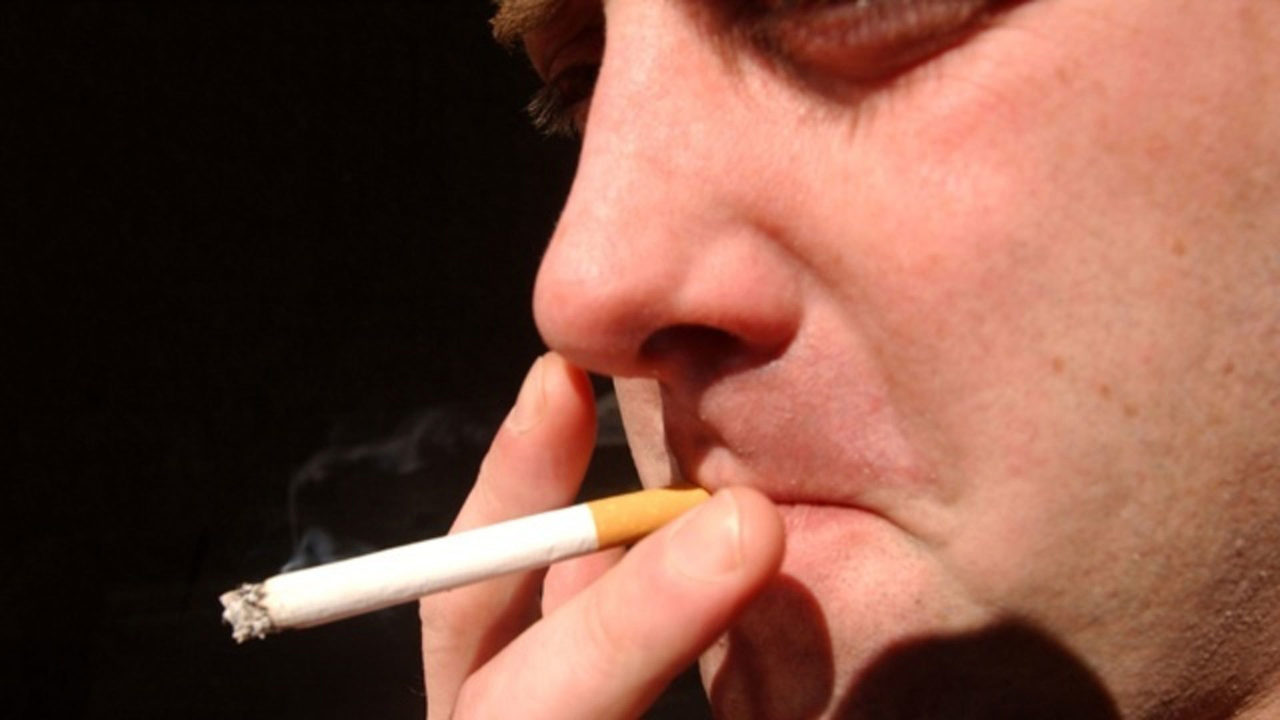cigarette: (218, 475, 724, 647)
